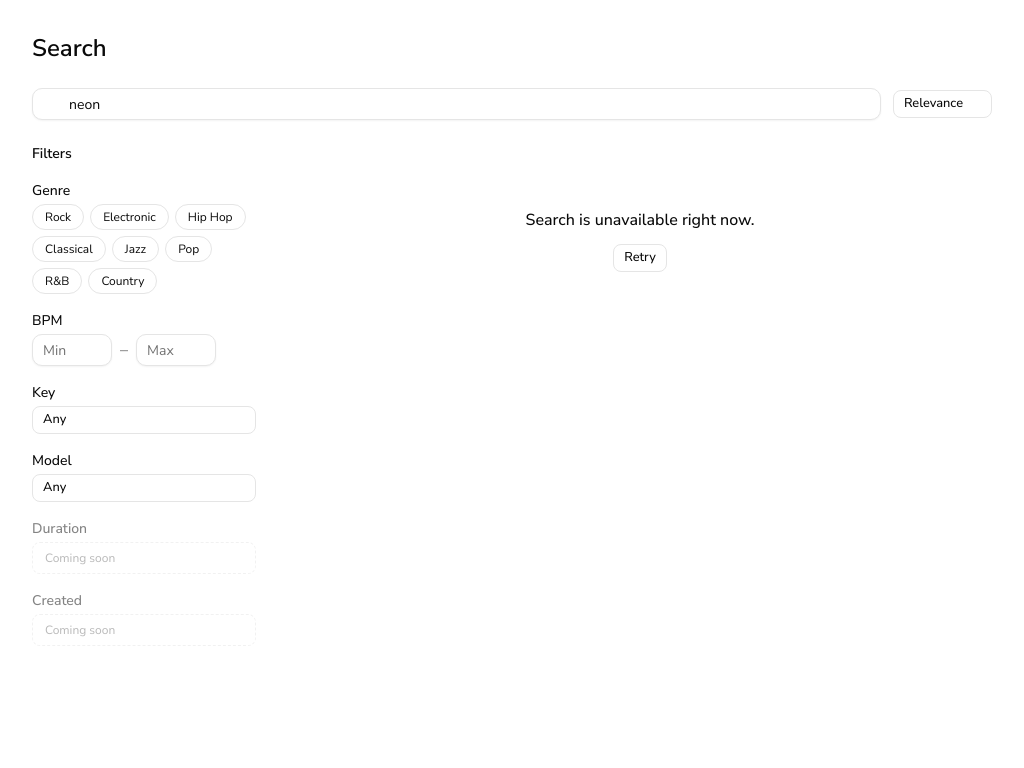
Test: SearchView › shows an error with a retry that searches again
Check: the message shows "Search is unavailable right now.", box [526,209,754,231]
Step 1. Click the button "Retry" → point(640, 258), box [613,244,667,272]
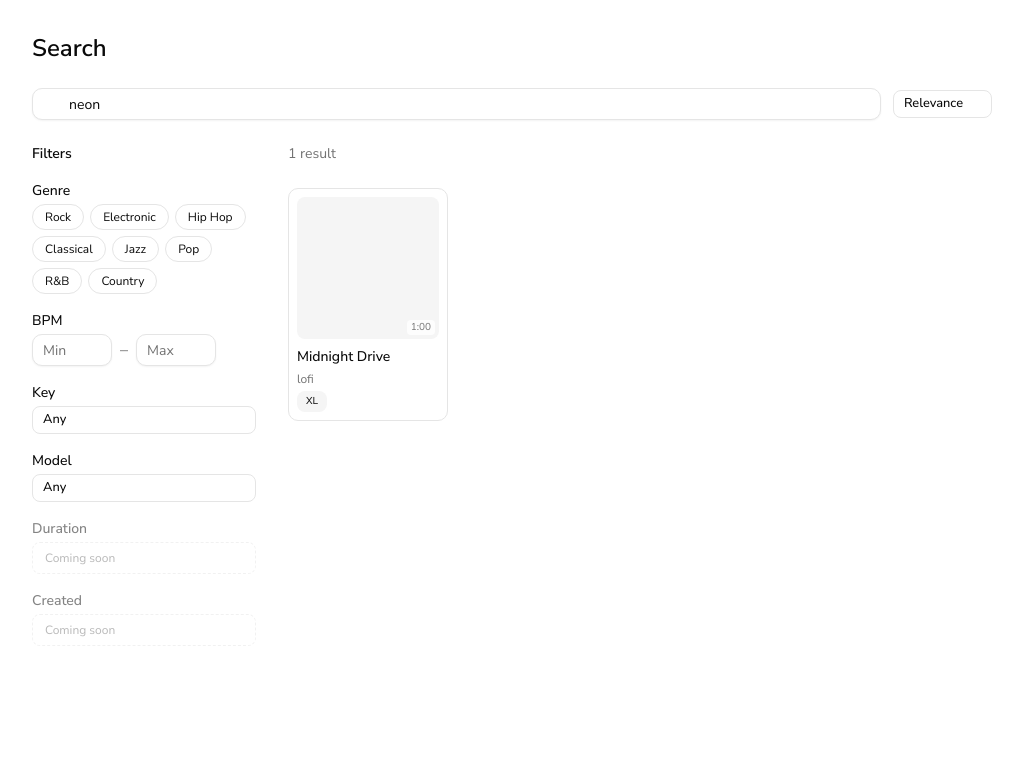
Check: the text "1 result" is shown, box [288,144,336,163]
